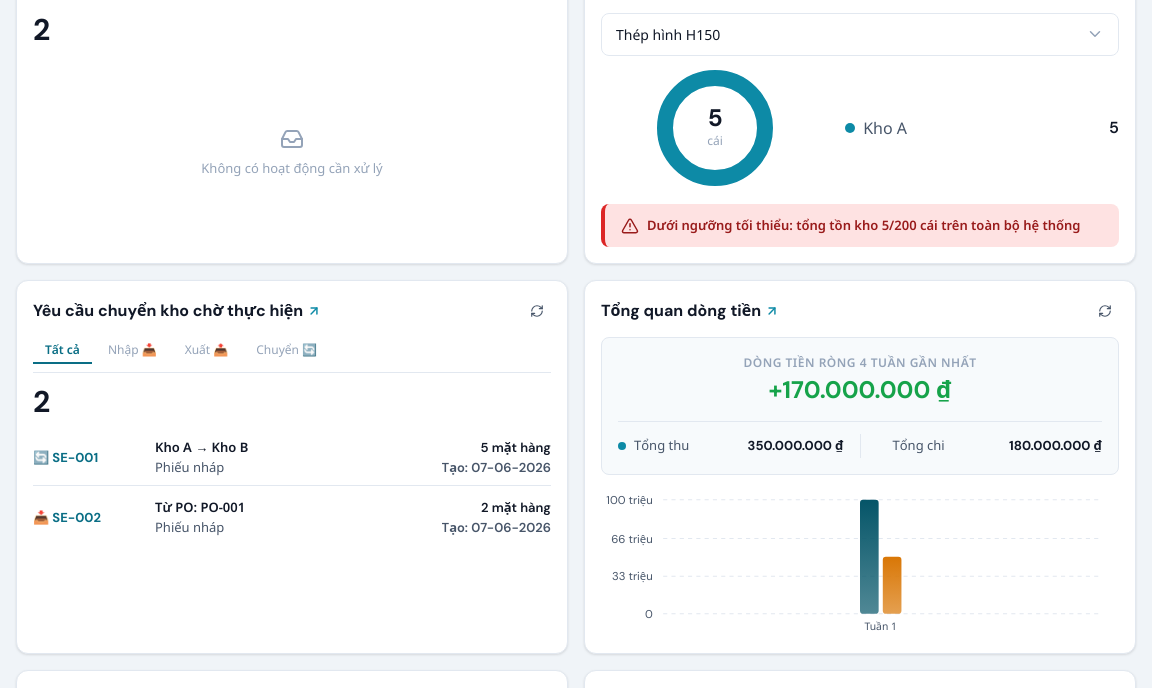
DashboardPage › filters stock entries based on tab select
(page scrolled)
Expected: the text "Yêu cầu chuyển kho chờ thực hiện" is shown, [33,299,303,323]
Expected: the link "🔄 SE-001" is shown, [33,449,98,466]
Click the button "Nhập 📥" at (132, 351), box [96,337,169,364]
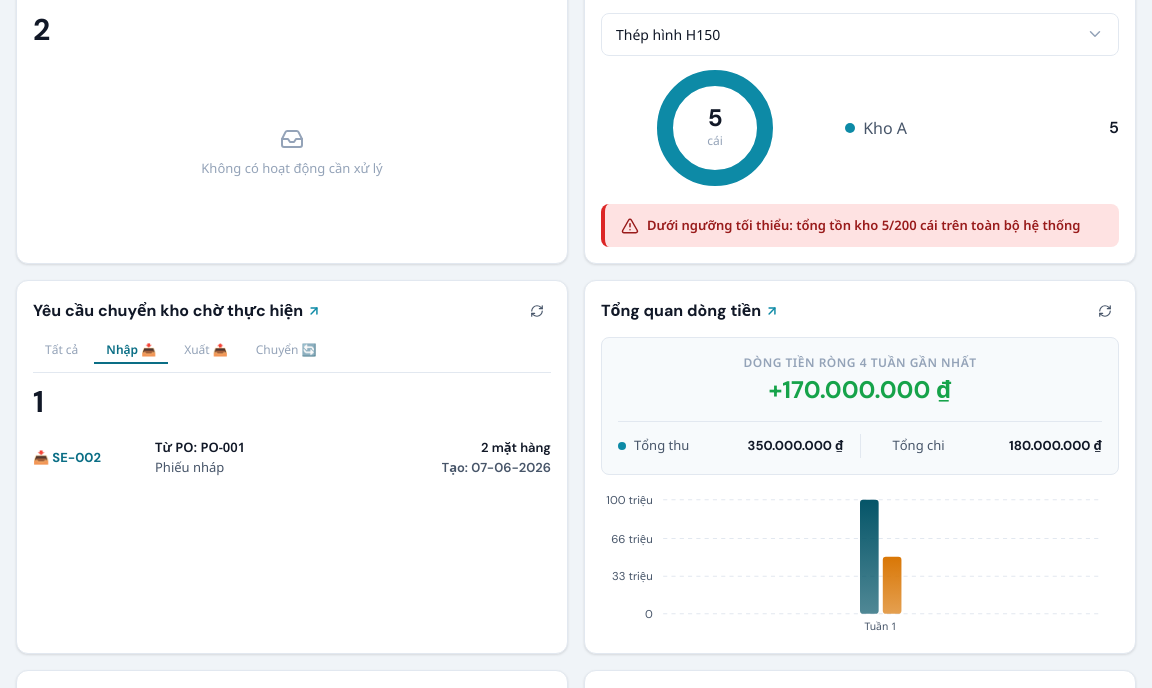
Expected: the link "📥 SE-002" is shown, [33,449,101,466]
Expected: the link "SE-001" is gone
Click the button "Chuyển 🔄" at (286, 351), box [244,337,329,364]
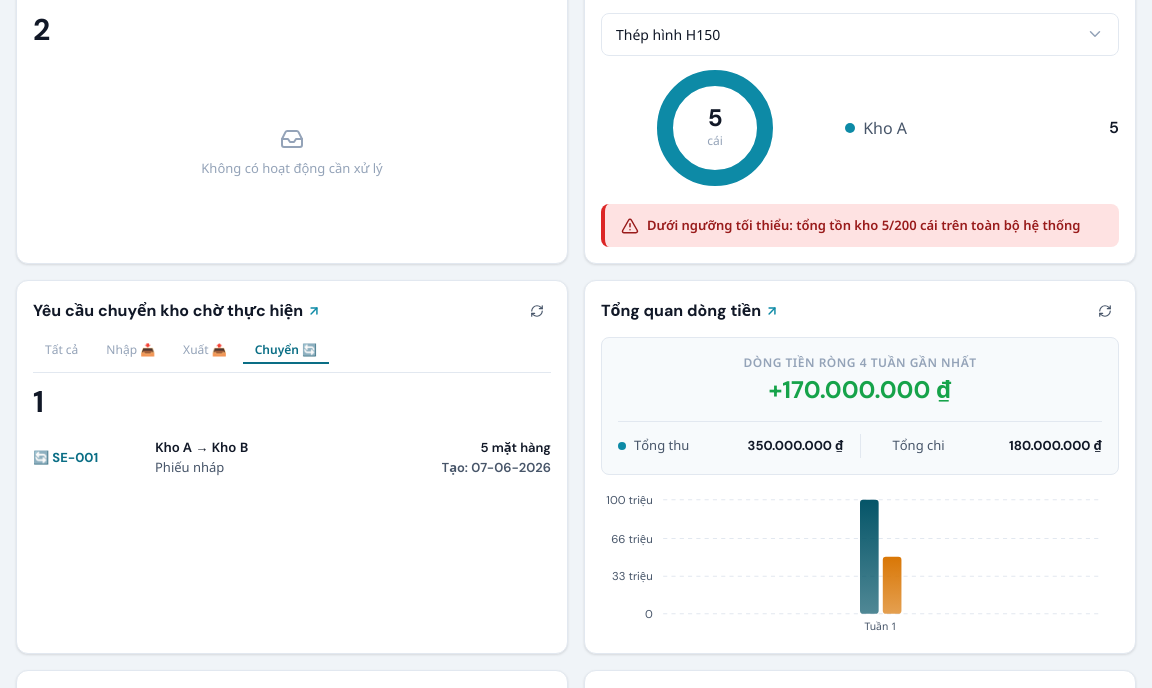
Expected: the link "🔄 SE-001" is shown, [33,449,98,466]
Expected: the link "SE-002" is gone
